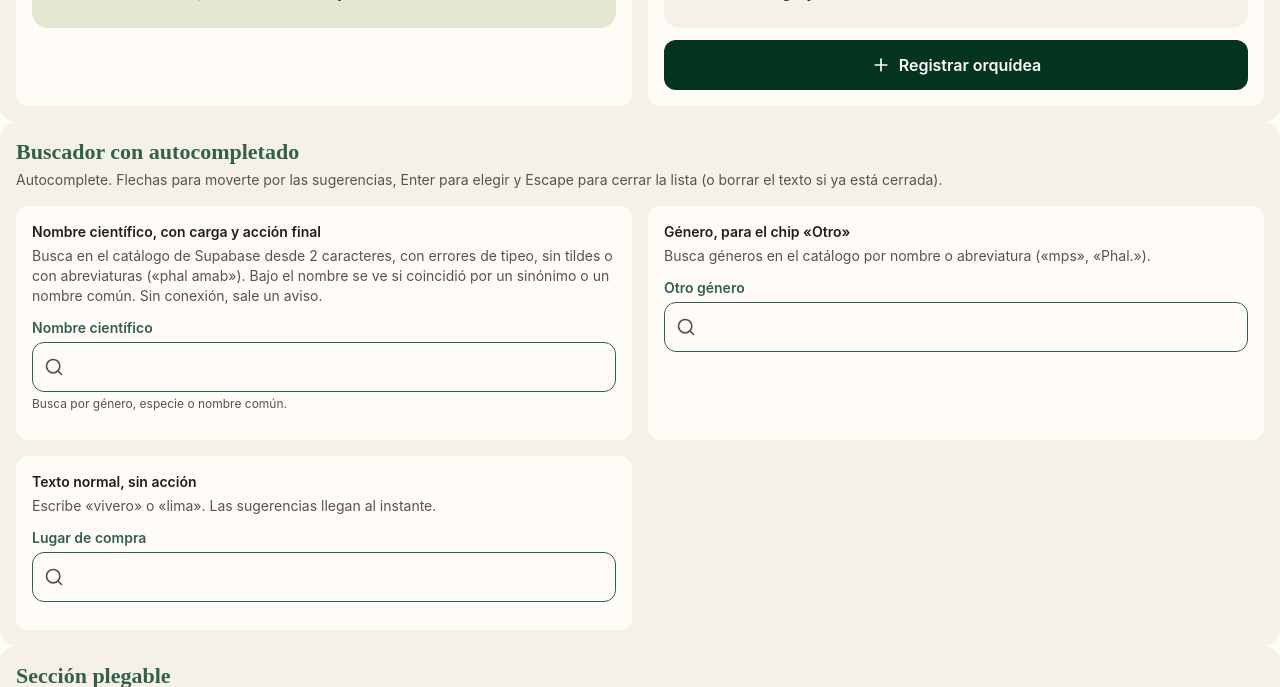
Test: ShowcasePage con Supabase › el buscador de géneros dice por qué abreviatura coincidió
(page scrolled)
Step 1. Type "phal." into the dropdown labelled "Otro género" → x=956, y=327, box left=664, top=302, right=1248, bottom=352
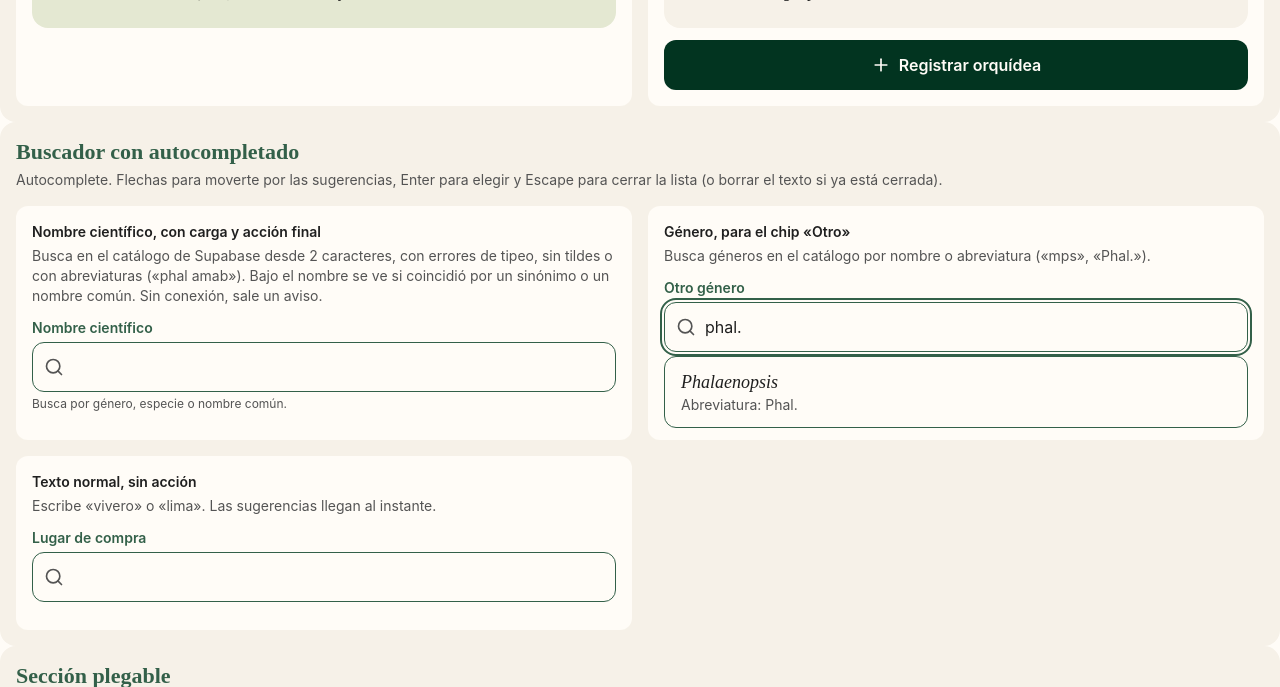
Result: the option "Phalaenopsis Abreviatura: Phal." is shown at left=680, top=372, right=798, bottom=413
